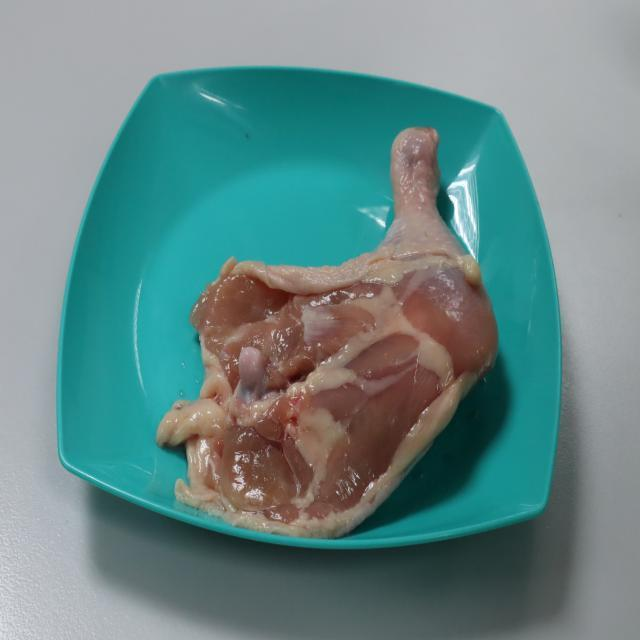quater: (208, 130, 486, 505)
